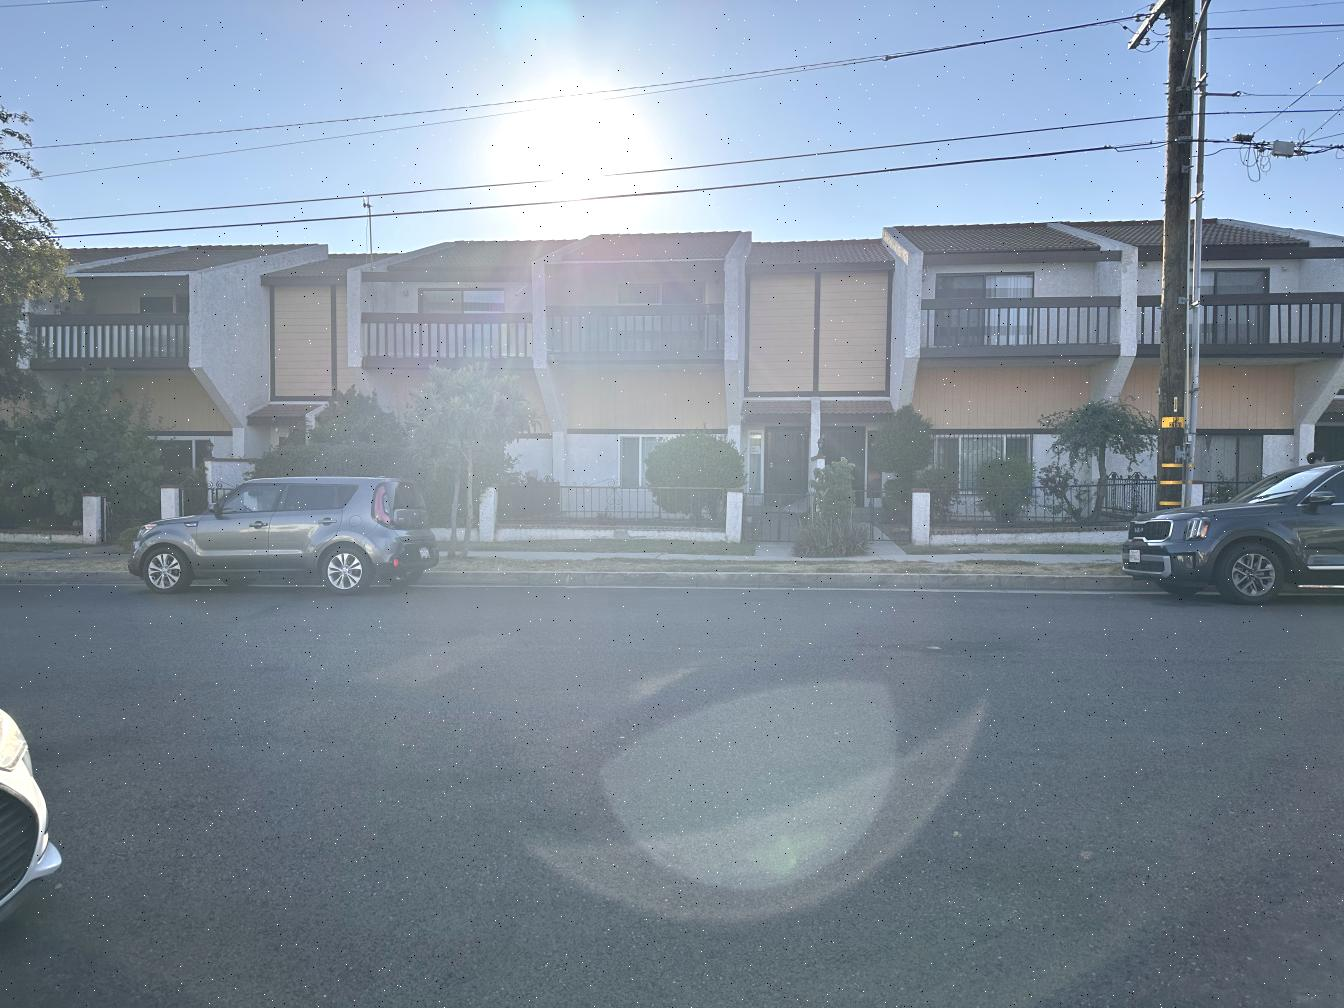curbs-laRr: (441, 570, 1132, 594), (4, 569, 128, 588)
